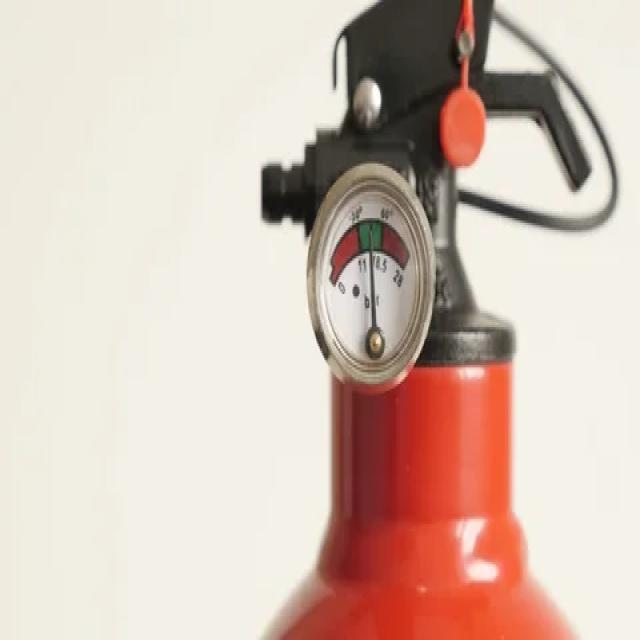pressure gauge: (308, 163, 435, 391)
